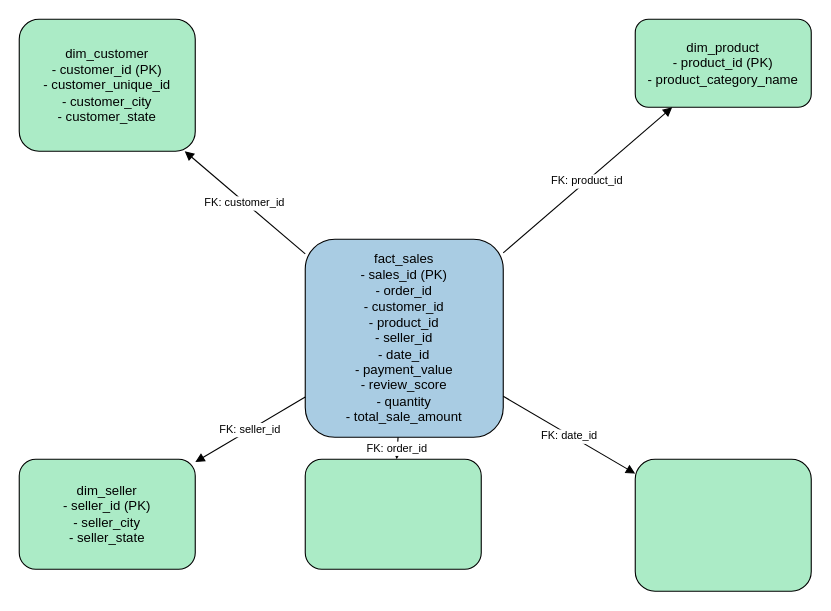
Some shapes in this 831 by 611 pixel diagram are drawn without their labels. The centre of each missing label's shape, as x and y in pixels:
dim_date - date_id (PK) - day - month - year - quarter: pixel 722 524
dim_payment (optional) - order_id (PK) - payment_type - payment_installments: pixel 392 513
